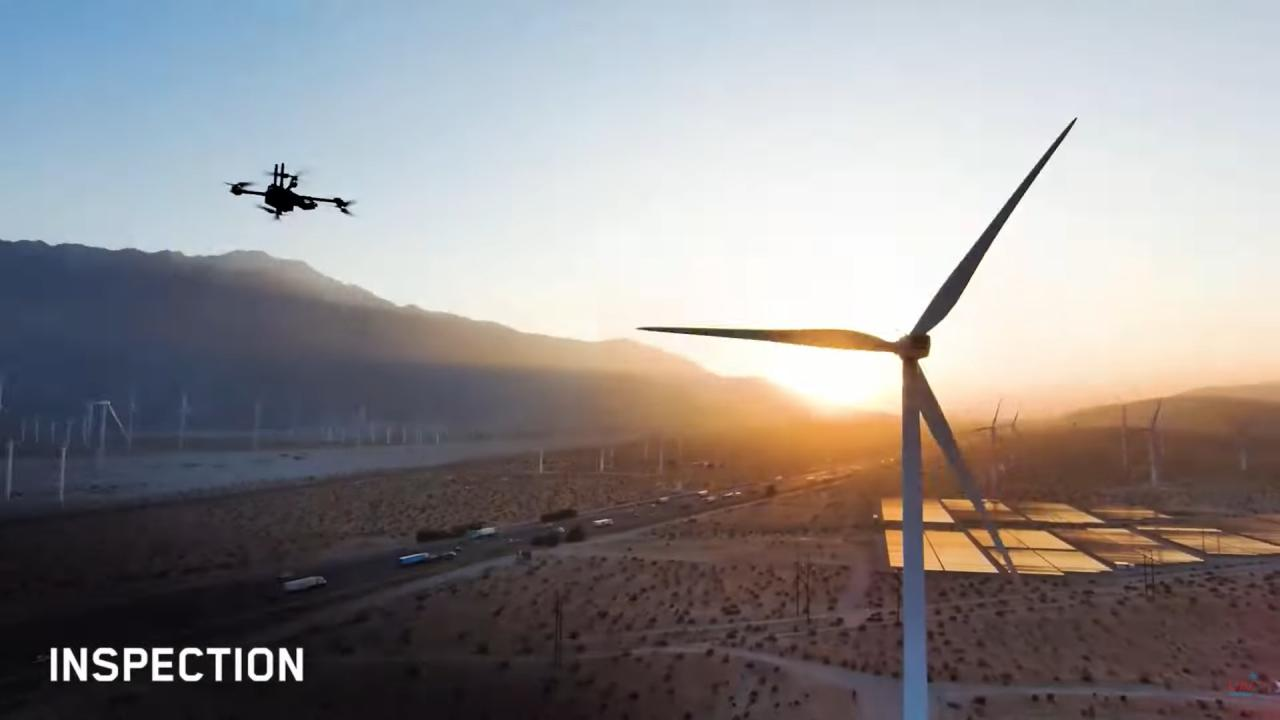Drone: (204, 150, 376, 235)
